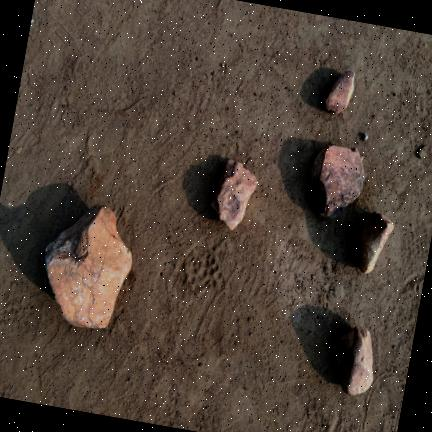Rocks: (45, 206, 132, 327), (309, 145, 364, 215), (212, 159, 258, 229), (336, 326, 373, 395), (357, 212, 394, 272), (324, 70, 355, 112), (418, 145, 428, 158), (16, 146, 23, 153), (363, 133, 368, 139)
